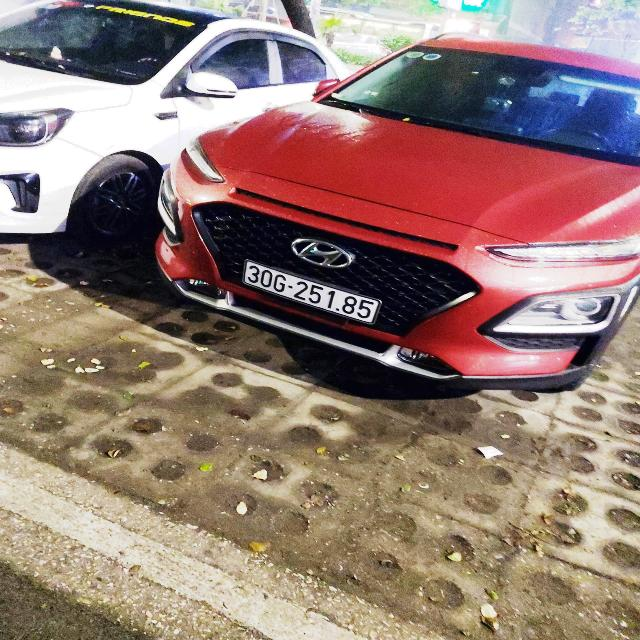license_plate: (237, 257, 377, 332)
